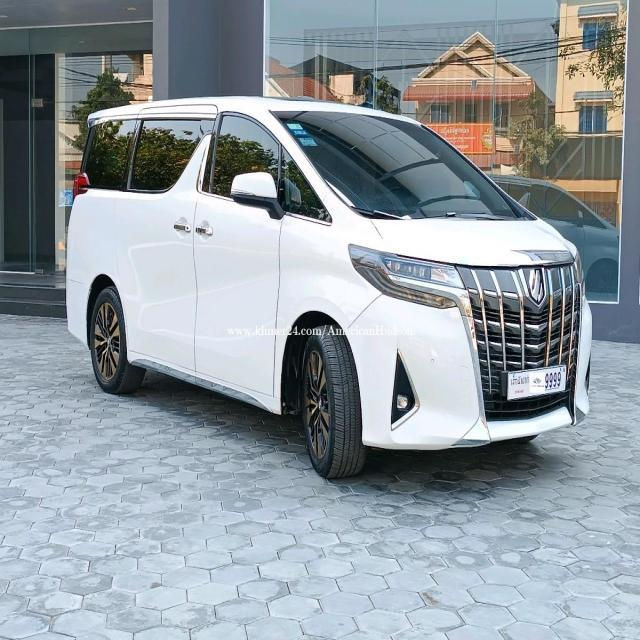Pursat: (511, 375, 530, 387)
